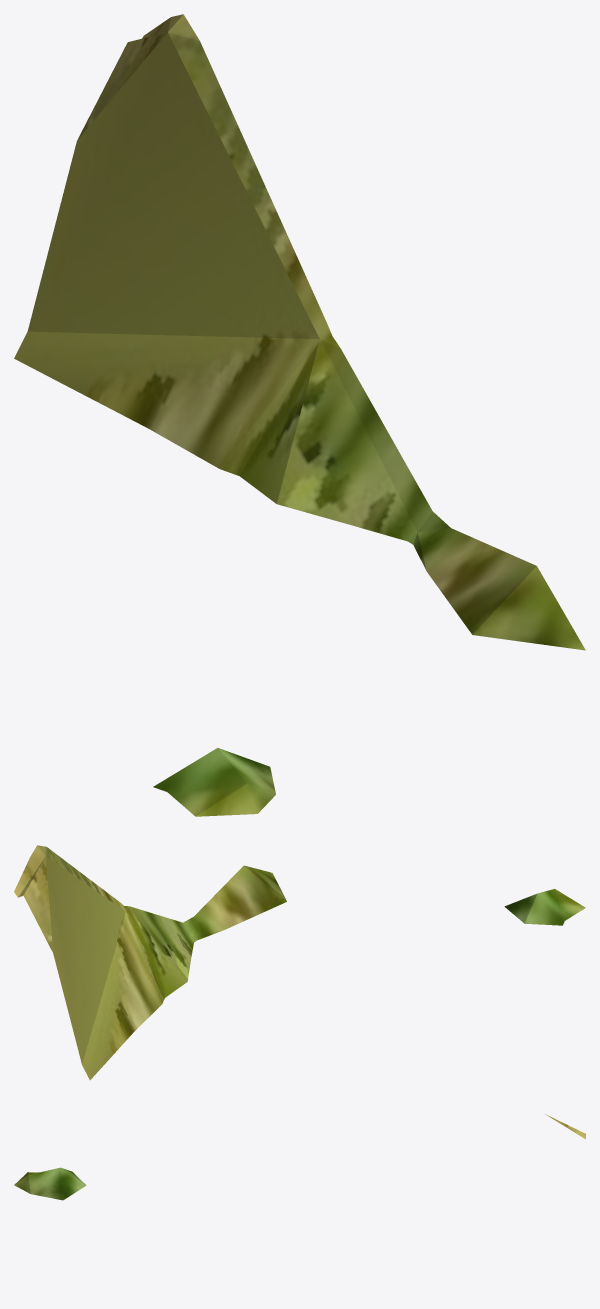
The picture shows the model from 3 angles, top to bottom: view 1: azimuth 30°, elevation 25°; view 2: azimuth 150°, elevation 25°; view 3: azimuth 270°, elevation 25°; orthographic projection. The views are drawn at different scales.
Bounding box in the file's own units: 0.3743 × 0.263 × 0.736.
Materials: 1 (1 with a texture image).
